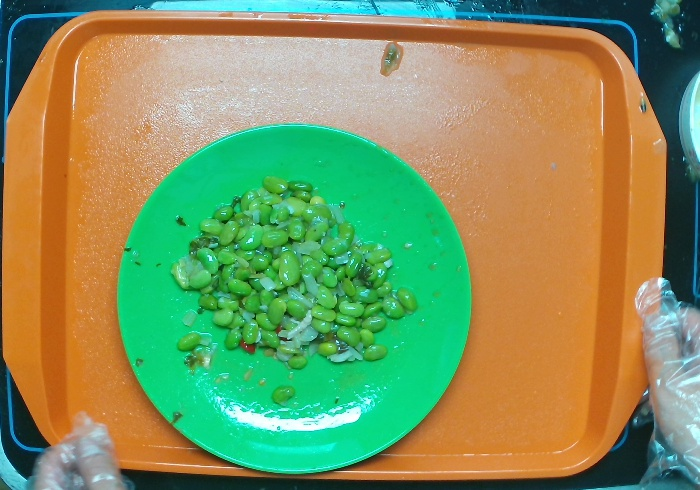HZYJPL-Lv_Se_Yuan_Pan: (116, 122, 474, 476)
